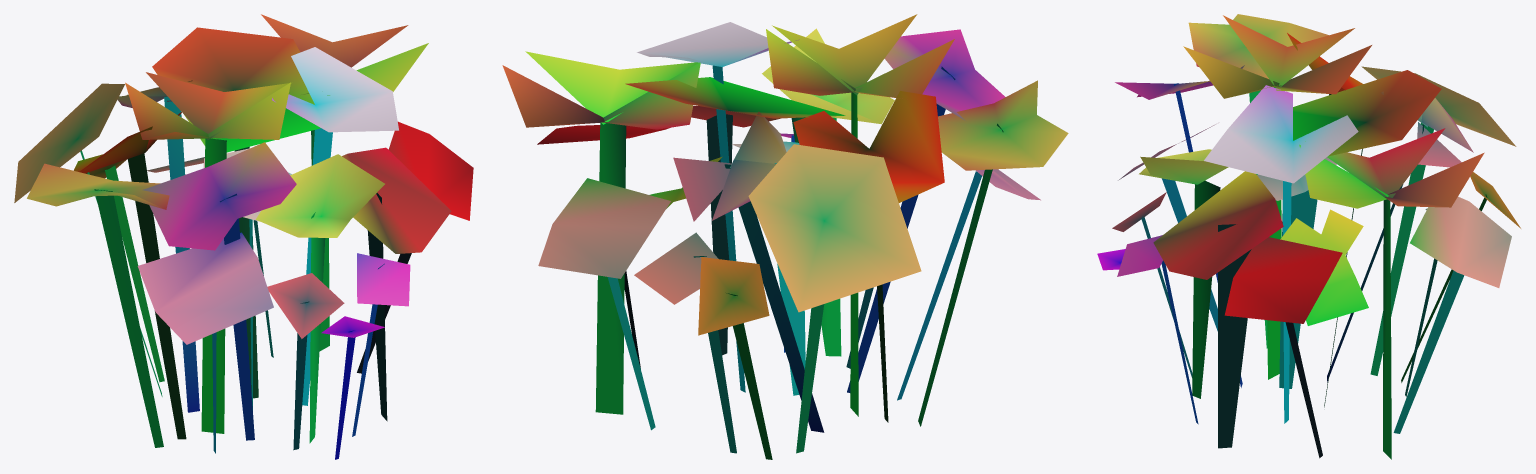
File: Purple_Shamrock_rjrrH_Mid_rjrrH_VarB_LOD2.fbx
The picture shows the model from 3 angles, left to right: view 1: azimuth 30°, elevation 25°; view 2: azimuth 150°, elevation 25°; view 3: azimuth 270°, elevation 25°; orthographic projection. The views are drawn at different scales.
Visible parts, largest first — view 1: _f4e2_VarB_LOD3; view 2: _f4e2_VarB_LOD3; view 3: _f4e2_VarB_LOD3.
Boxes of the visible parts, bbox=[...] form: _f4e2_VarB_LOD3: bbox=[14, 14, 473, 459]; _f4e2_VarB_LOD3: bbox=[502, 14, 1068, 459]; _f4e2_VarB_LOD3: bbox=[1097, 14, 1520, 459].
Size of the model in its own units: 43.61 by 31.13 by 35.97.
